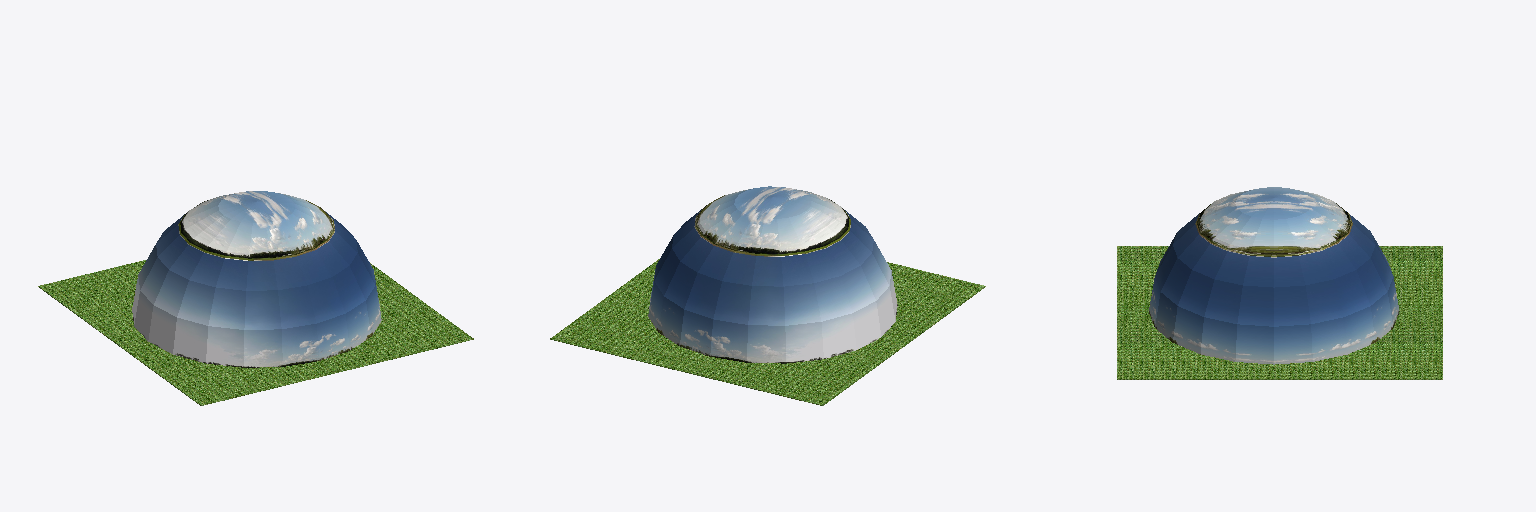
3 views of the same model, side by side, from view 1: azimuth 30°, elevation 25°; view 2: azimuth 150°, elevation 25°; view 3: azimuth 270°, elevation 25° (orthographic).
Parts seen in each view (by area): view 1: $ColladaAutoName$_0; view 2: $ColladaAutoName$_0; view 3: $ColladaAutoName$_0.
Part boxes in pixels (bbox=[...]): $ColladaAutoName$_0: bbox=[38, 191, 473, 405]; $ColladaAutoName$_0: bbox=[550, 186, 985, 405]; $ColladaAutoName$_0: bbox=[1117, 187, 1442, 379].
Size of the model in its own units: 62.94 by 25.19 by 65.13.
Materials: 4 (2 with a texture image).